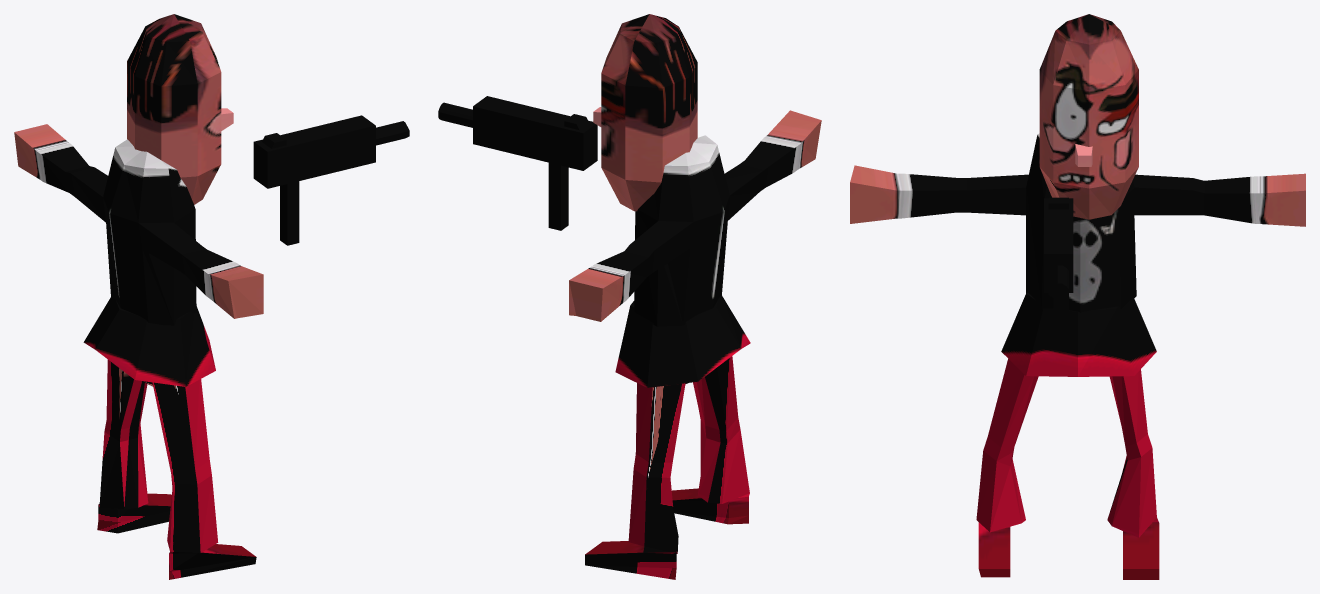
The model's file is BadF1.glb.
3 views of the same model, side by side, from view 1: azimuth 30°, elevation 25°; view 2: azimuth 150°, elevation 25°; view 3: azimuth 270°, elevation 25° (orthographic). The views are drawn at different scales.
Visible parts, largest first — view 1: BadF1; view 2: BadF1; view 3: BadF1.
Part boxes in pixels (<box>): BadF1: <box>14,14,409,579</box>; BadF1: <box>438,14,821,579</box>; BadF1: <box>850,14,1305,579</box>.
Bounding box in the file's own units: 49.68 × 82.51 × 61.92.
Materials: 1 (1 with a texture image).
